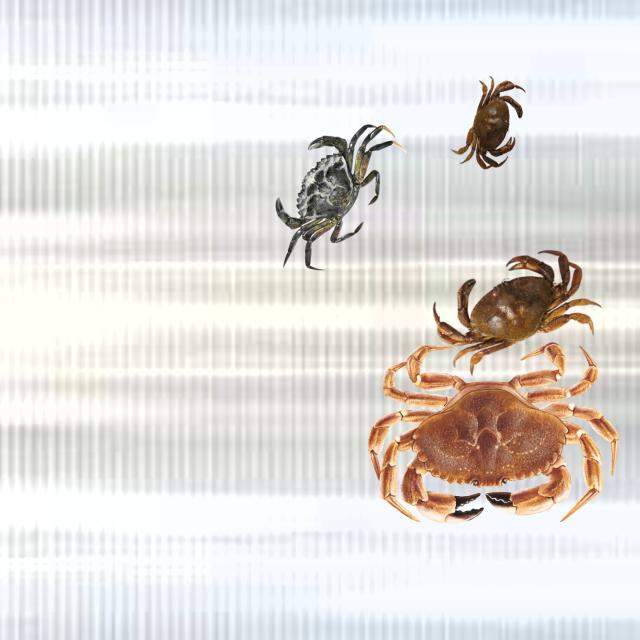European_Green_Crab: (247, 97, 415, 292)
